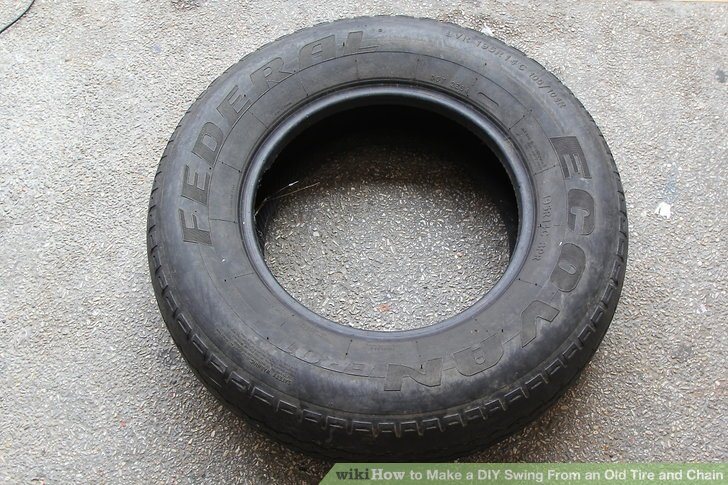tire: (134, 11, 631, 466)
